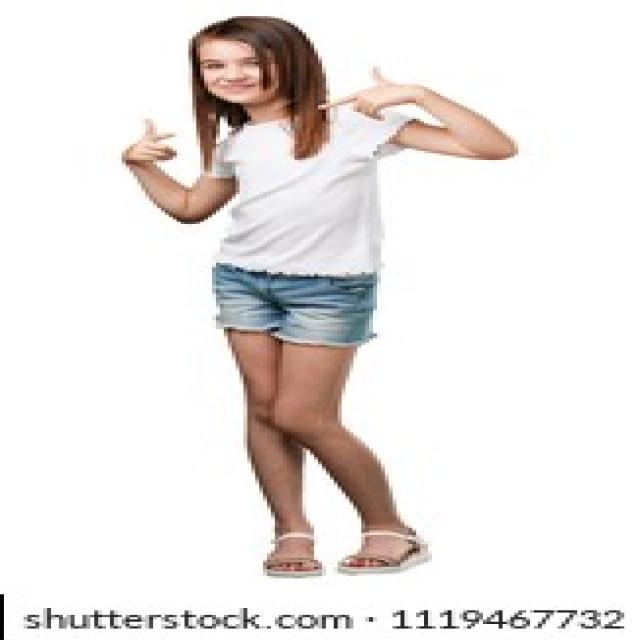child: (90, 9, 546, 583)
